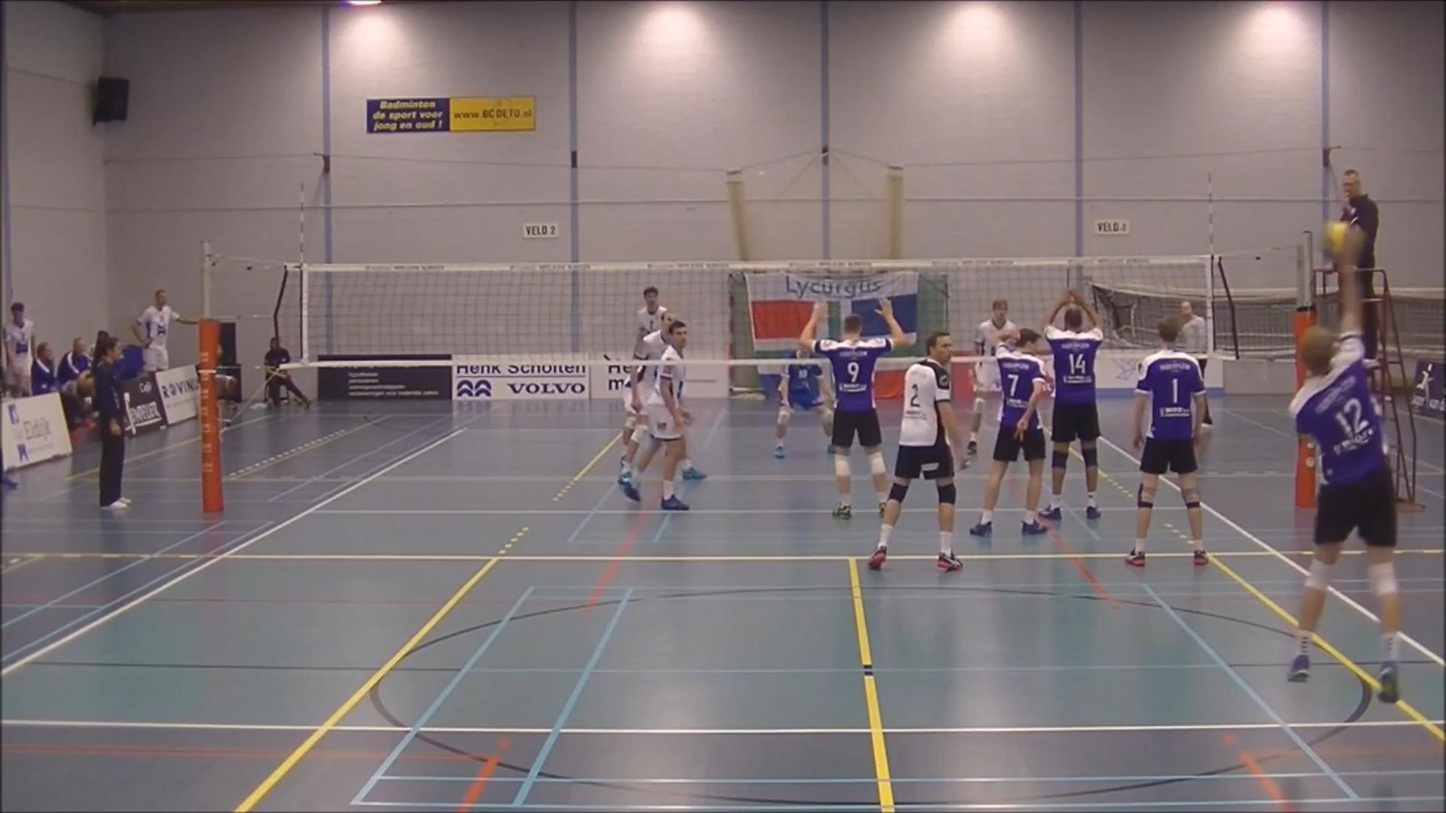Player: (798, 298, 906, 518), (868, 332, 962, 571), (1126, 316, 1207, 566), (969, 328, 1048, 536), (1042, 291, 1103, 519), (618, 314, 676, 501), (646, 320, 688, 510), (967, 299, 1017, 455), (773, 364, 832, 458), (618, 364, 656, 485), (636, 286, 668, 340)
Serve: (1283, 221, 1404, 710)
ball: (1320, 213, 1356, 262)
